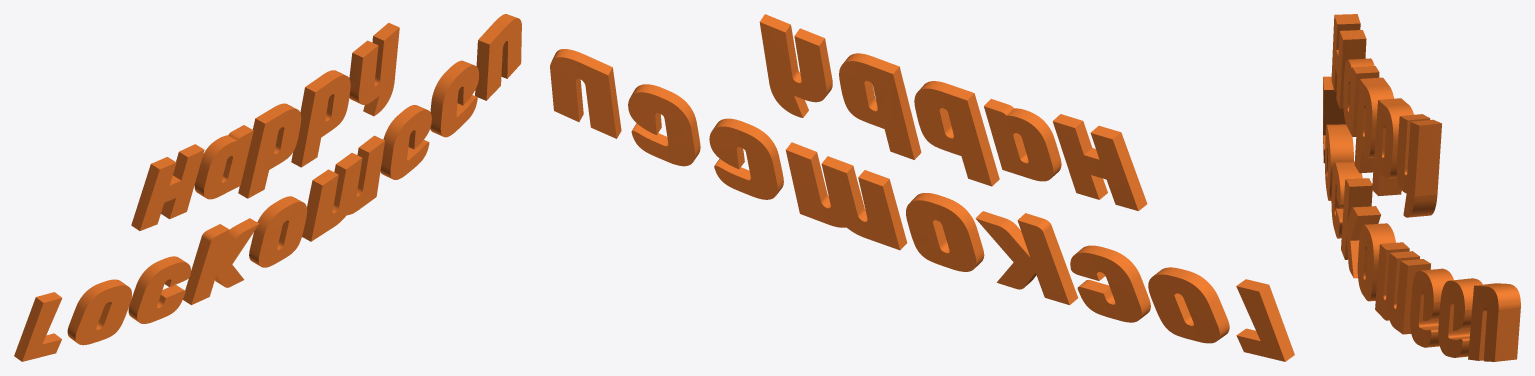
3 views of the same model, side by side, from view 1: azimuth 30°, elevation 25°; view 2: azimuth 150°, elevation 25°; view 3: azimuth 270°, elevation 25° (orthographic). The views are drawn at different scales.
Parts seen in each view (by area): view 1: lockoween; view 2: lockoween; view 3: lockoween.
Boxes of the visible parts, bbox=[...] form: lockoween: bbox=[14, 14, 521, 361]; lockoween: bbox=[550, 14, 1294, 361]; lockoween: bbox=[1323, 14, 1520, 361].
Bounding box in the file's own units: 642 × 230 × 135.
